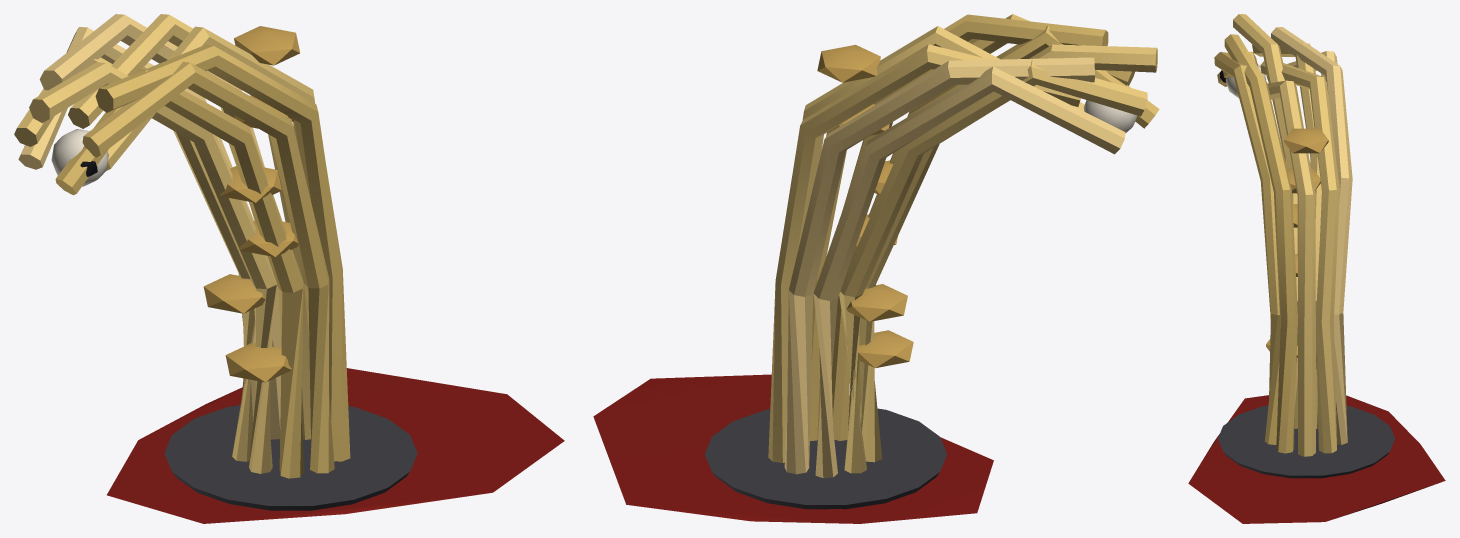
Rendered from noodle_tentacle.glb.
3 renders of one model, left to right at view 1: azimuth 30°, elevation 25°; view 2: azimuth 150°, elevation 25°; view 3: azimuth 270°, elevation 25°, orthographic. The views are drawn at different scales.
Parts seen in each view (by area): view 1: noodle_tentacle; view 2: noodle_tentacle; view 3: noodle_tentacle.
Boxes of the visible parts, x1=… form: noodle_tentacle: x1=14, y1=14, x2=564, y2=523; noodle_tentacle: x1=593, y1=14, x2=1159, y2=523; noodle_tentacle: x1=1188, y1=14, x2=1445, y2=523.
Bounding box in the file's own units: 4.63 × 3.92 × 2.75.
